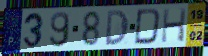3: (23, 11, 44, 50)
8: (81, 9, 102, 47)
9: (48, 11, 71, 49)
D: (133, 7, 163, 47), (105, 9, 130, 47)
H: (160, 7, 188, 45)
